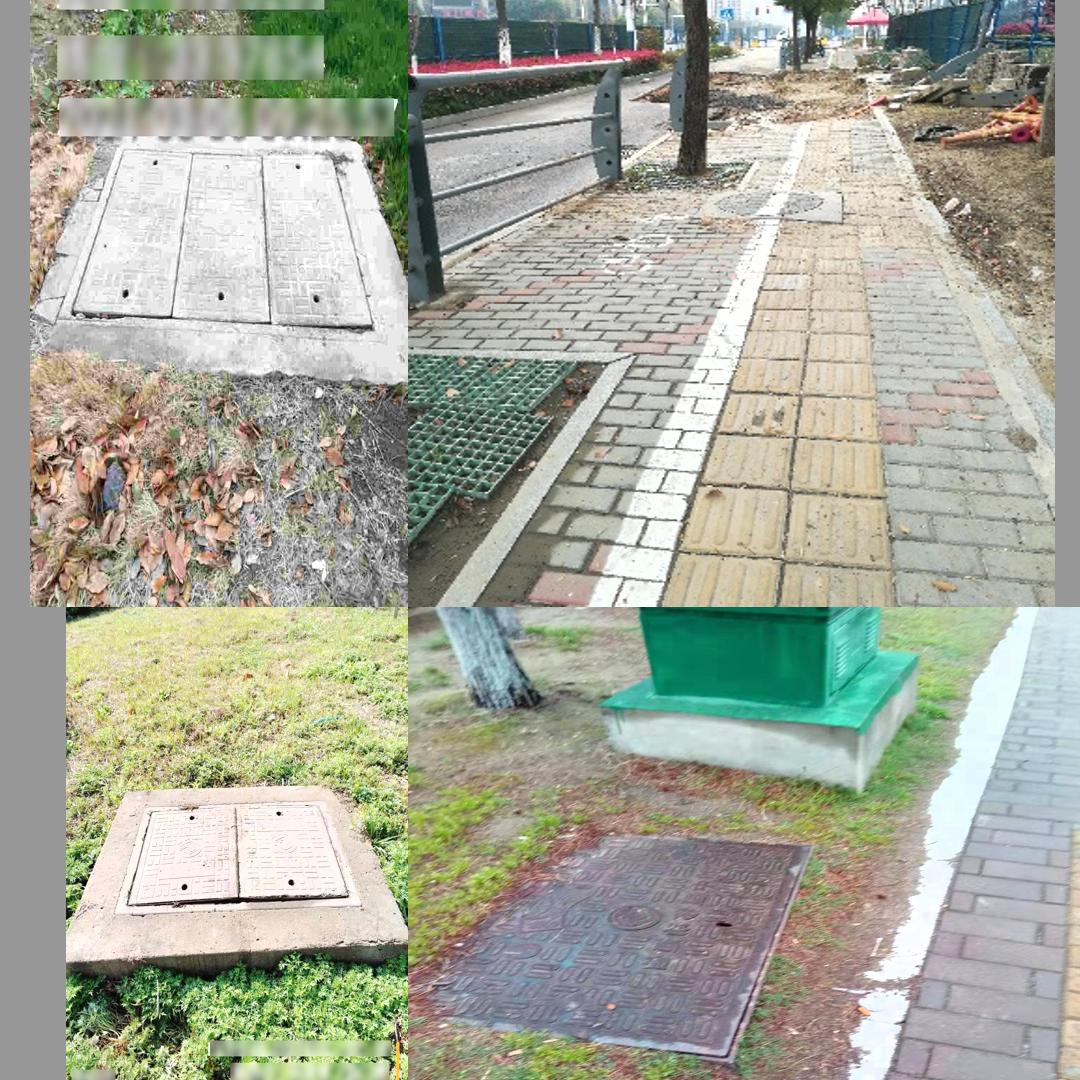good: (427, 834, 815, 1061), (54, 140, 383, 339), (116, 790, 338, 916), (712, 187, 821, 217)
